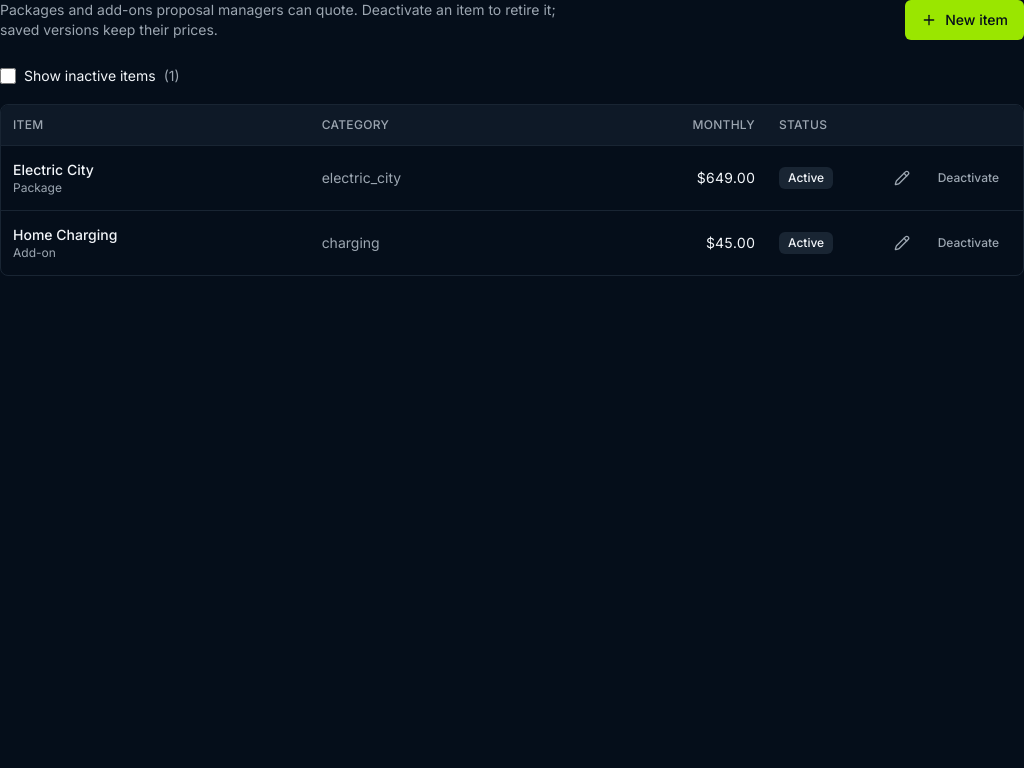
Scenario: CataloguePanel › edits an item without sending its type or status
The image size is (1024, 768).
Click the button named "Edit Electric City" at (902, 178), box [882, 158, 922, 198]
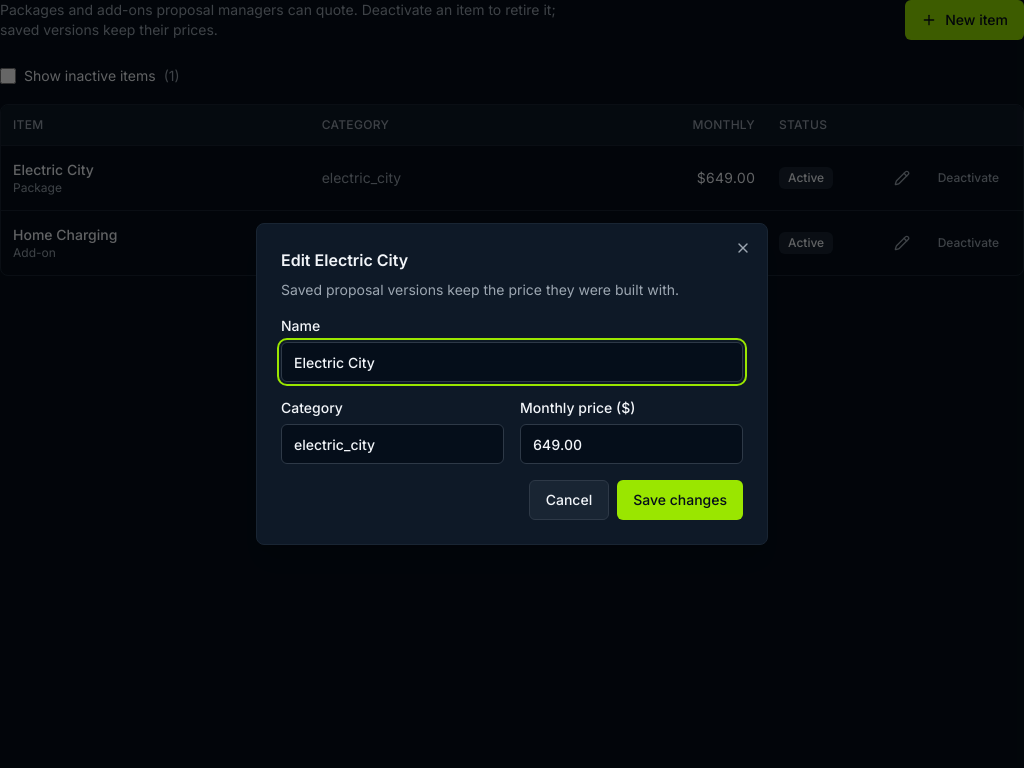
Type "679.00" into the field labelled "Monthly price ($)" at (632, 444), box [520, 424, 743, 464]
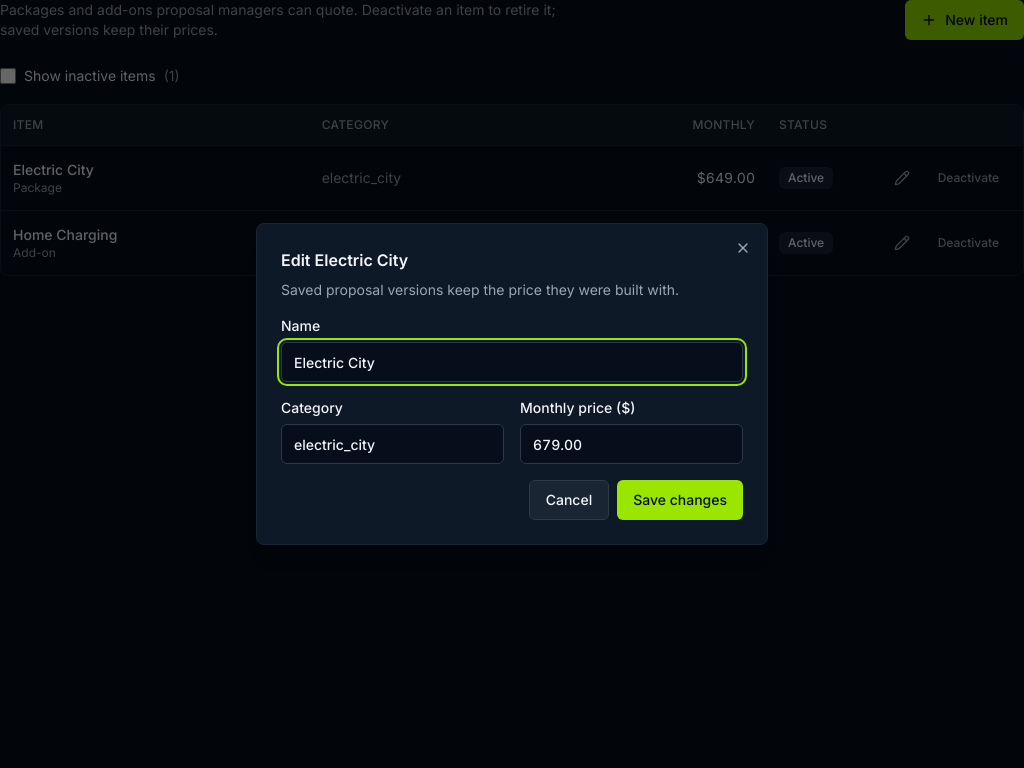
Click the button "Save changes" at (680, 500), box [617, 480, 743, 520]
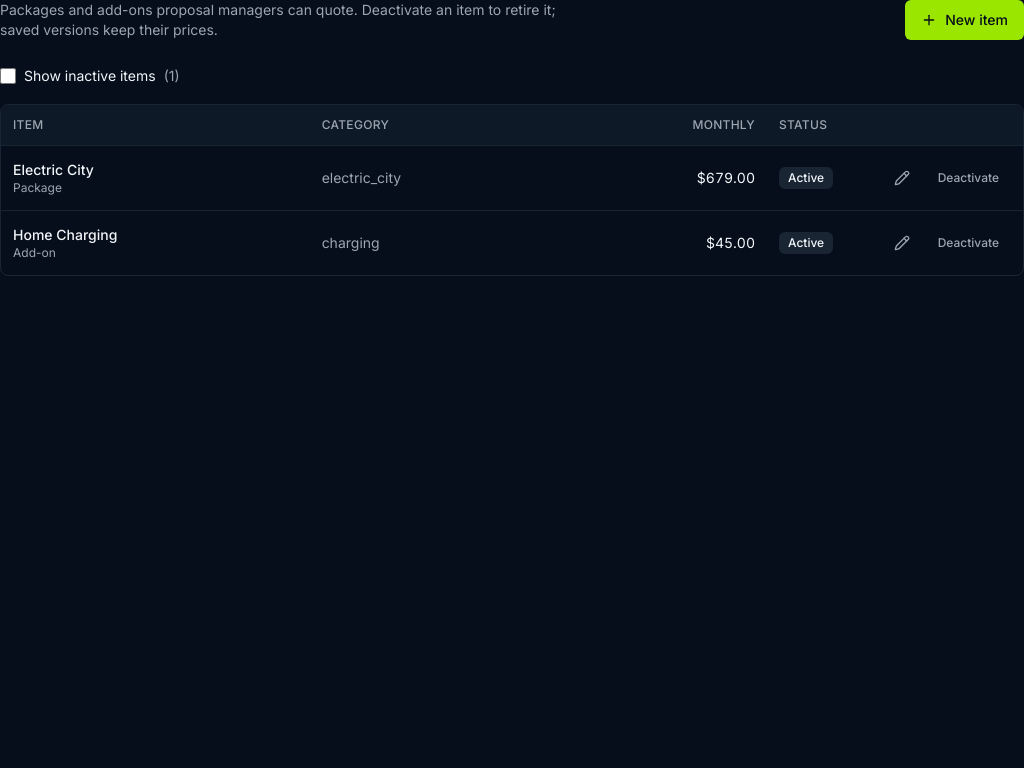
Expected: the text "$679.00" is shown, [559, 145, 767, 210]
